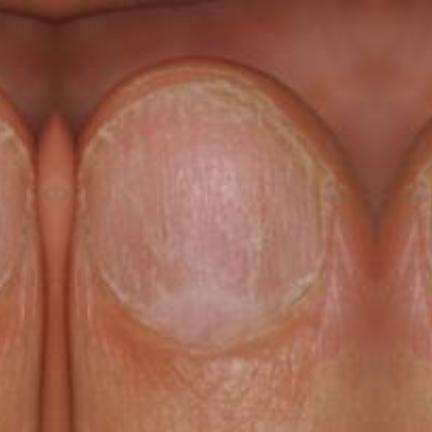Nail: (79, 83, 333, 346), (0, 117, 31, 287), (418, 170, 432, 278)
